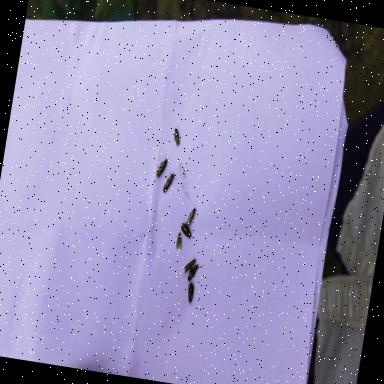pbw: (160, 169, 180, 195), (155, 152, 169, 178), (182, 257, 196, 279), (186, 261, 199, 282), (184, 281, 194, 307), (178, 222, 194, 238), (170, 127, 182, 147), (186, 206, 196, 228), (174, 232, 183, 250)
